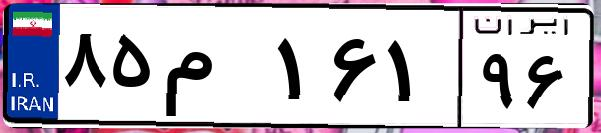1: (270, 28, 330, 110), (385, 28, 445, 110)
5: (110, 28, 158, 98)
6: (330, 28, 385, 110), (525, 38, 570, 115)
8: (57, 26, 110, 100)
9: (475, 38, 525, 113)
م: (158, 20, 270, 120)
